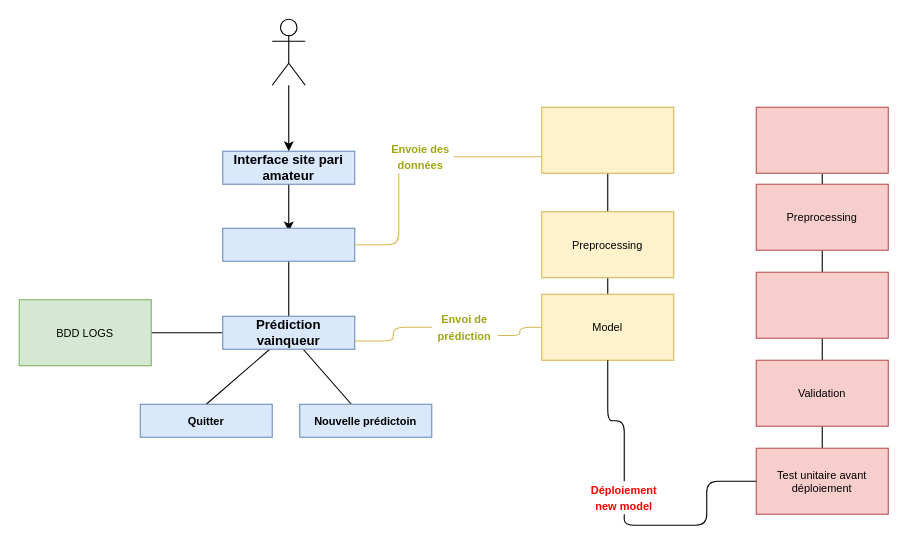
Some shapes in this 908 by 546 pixel diagram are drawn without their labels. Here are the shapes that lost their labels. From the top down, the centre of each, then its label:
At point 288,51: "Utilisateur".
At point 607,139: "Select match in bdd".
At point 821,139: "Données entrainement".
At point 288,244: "Saisie J1, j2, date".
At point 821,304: "Training model".
